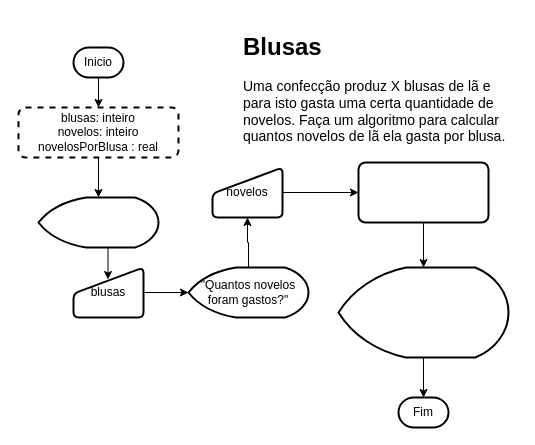
The diagram is 535 pixels wide and 445 high, and some of its shapes have lost their labels. The centre of each missing label's shape, as x and y in pixels:
"A quantidade de novelos por blusa: ", novelosPorBlusa: point (423, 312)
"Quantas blusas foram feitas?": point (98, 222)
novelosPorBlusa <- novelos / blusas: point (423, 192)
